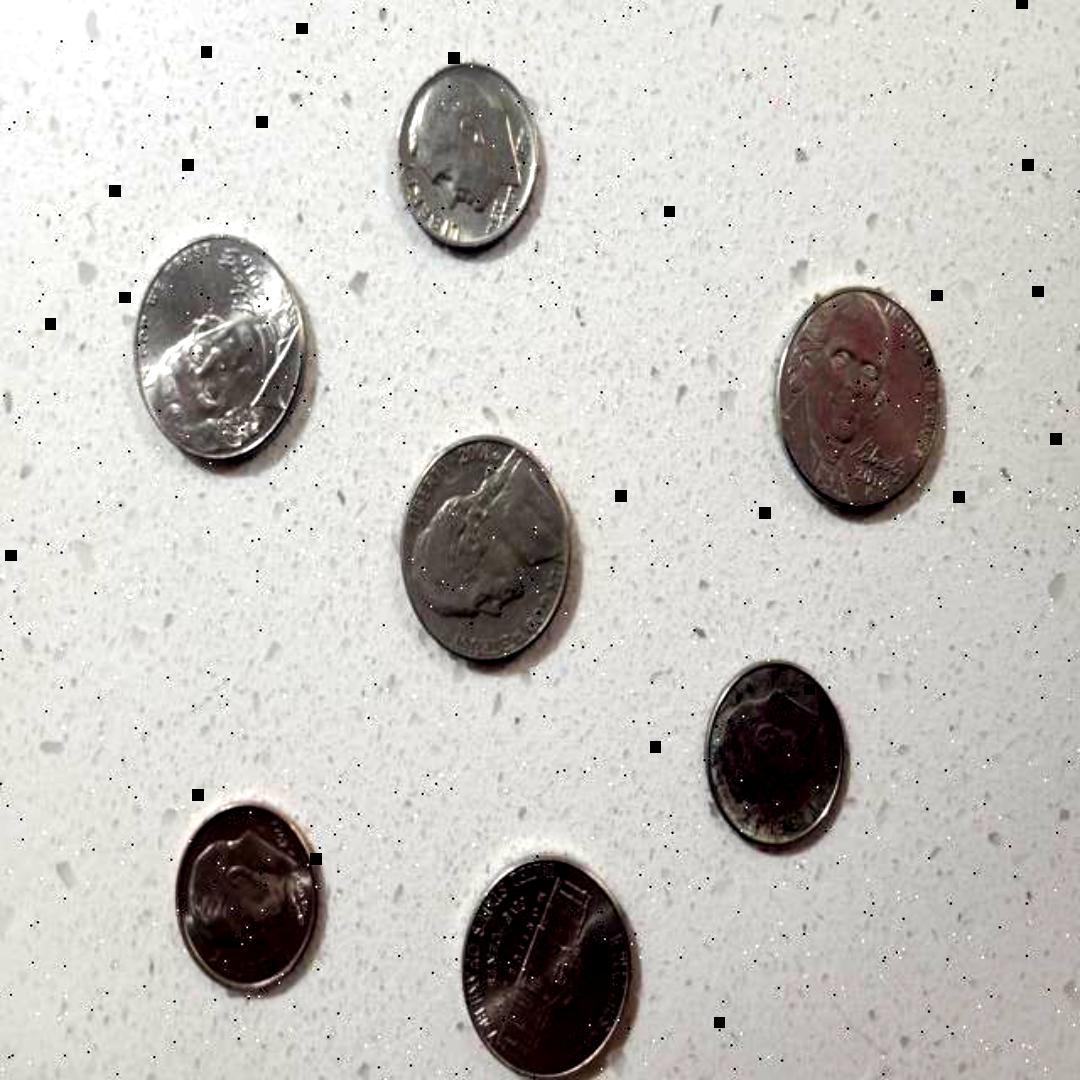Dime: (697, 652, 855, 860), (175, 799, 323, 999), (392, 62, 542, 256)
Nickel: (395, 426, 577, 670), (767, 278, 949, 522), (134, 224, 310, 468), (457, 843, 630, 1075)
